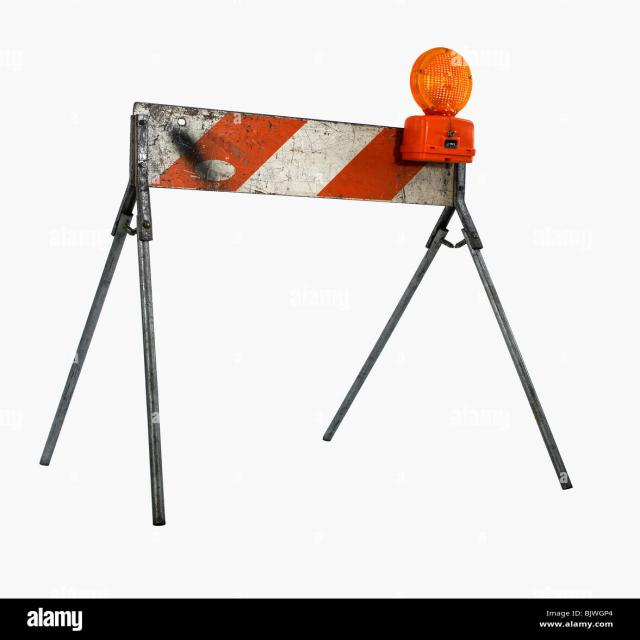cone: (50, 31, 583, 526)
